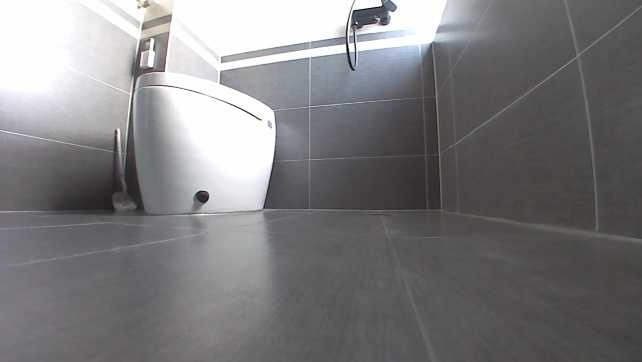toilet: (130, 70, 278, 213)
